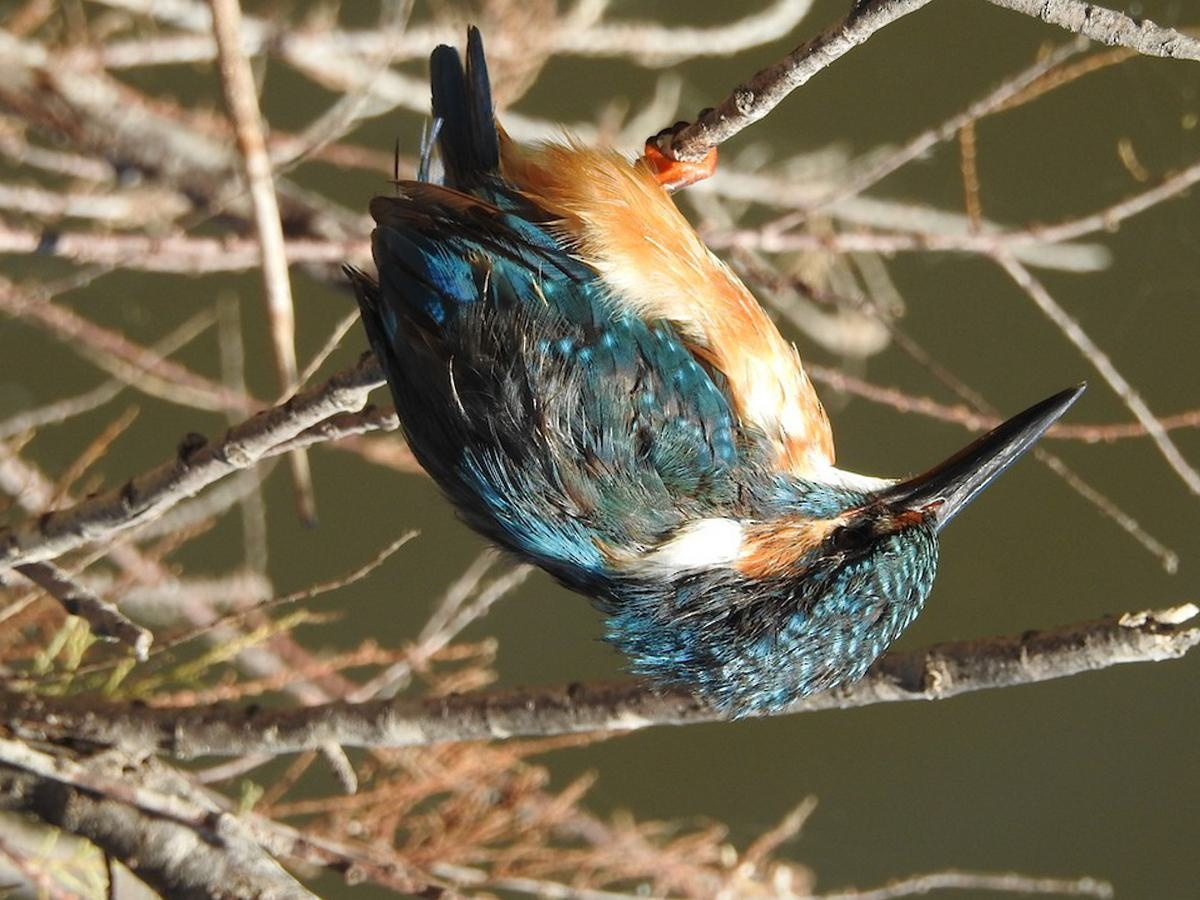kingfisher: (364, 76, 1097, 737)
